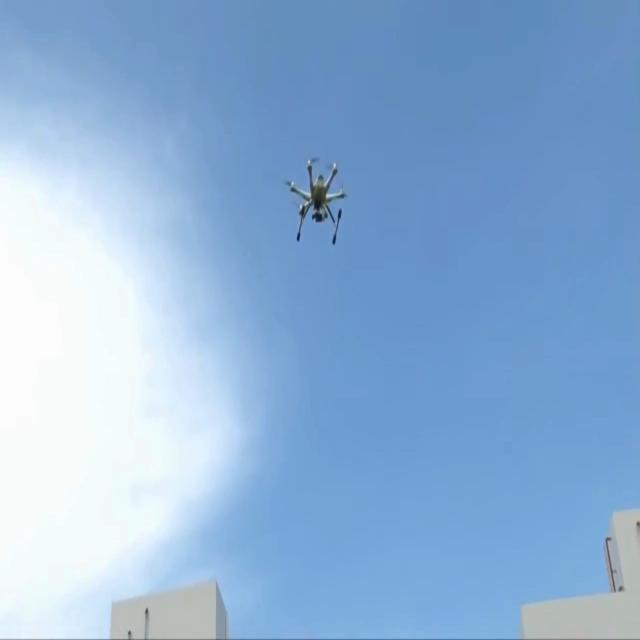drone: (284, 156, 347, 245)
